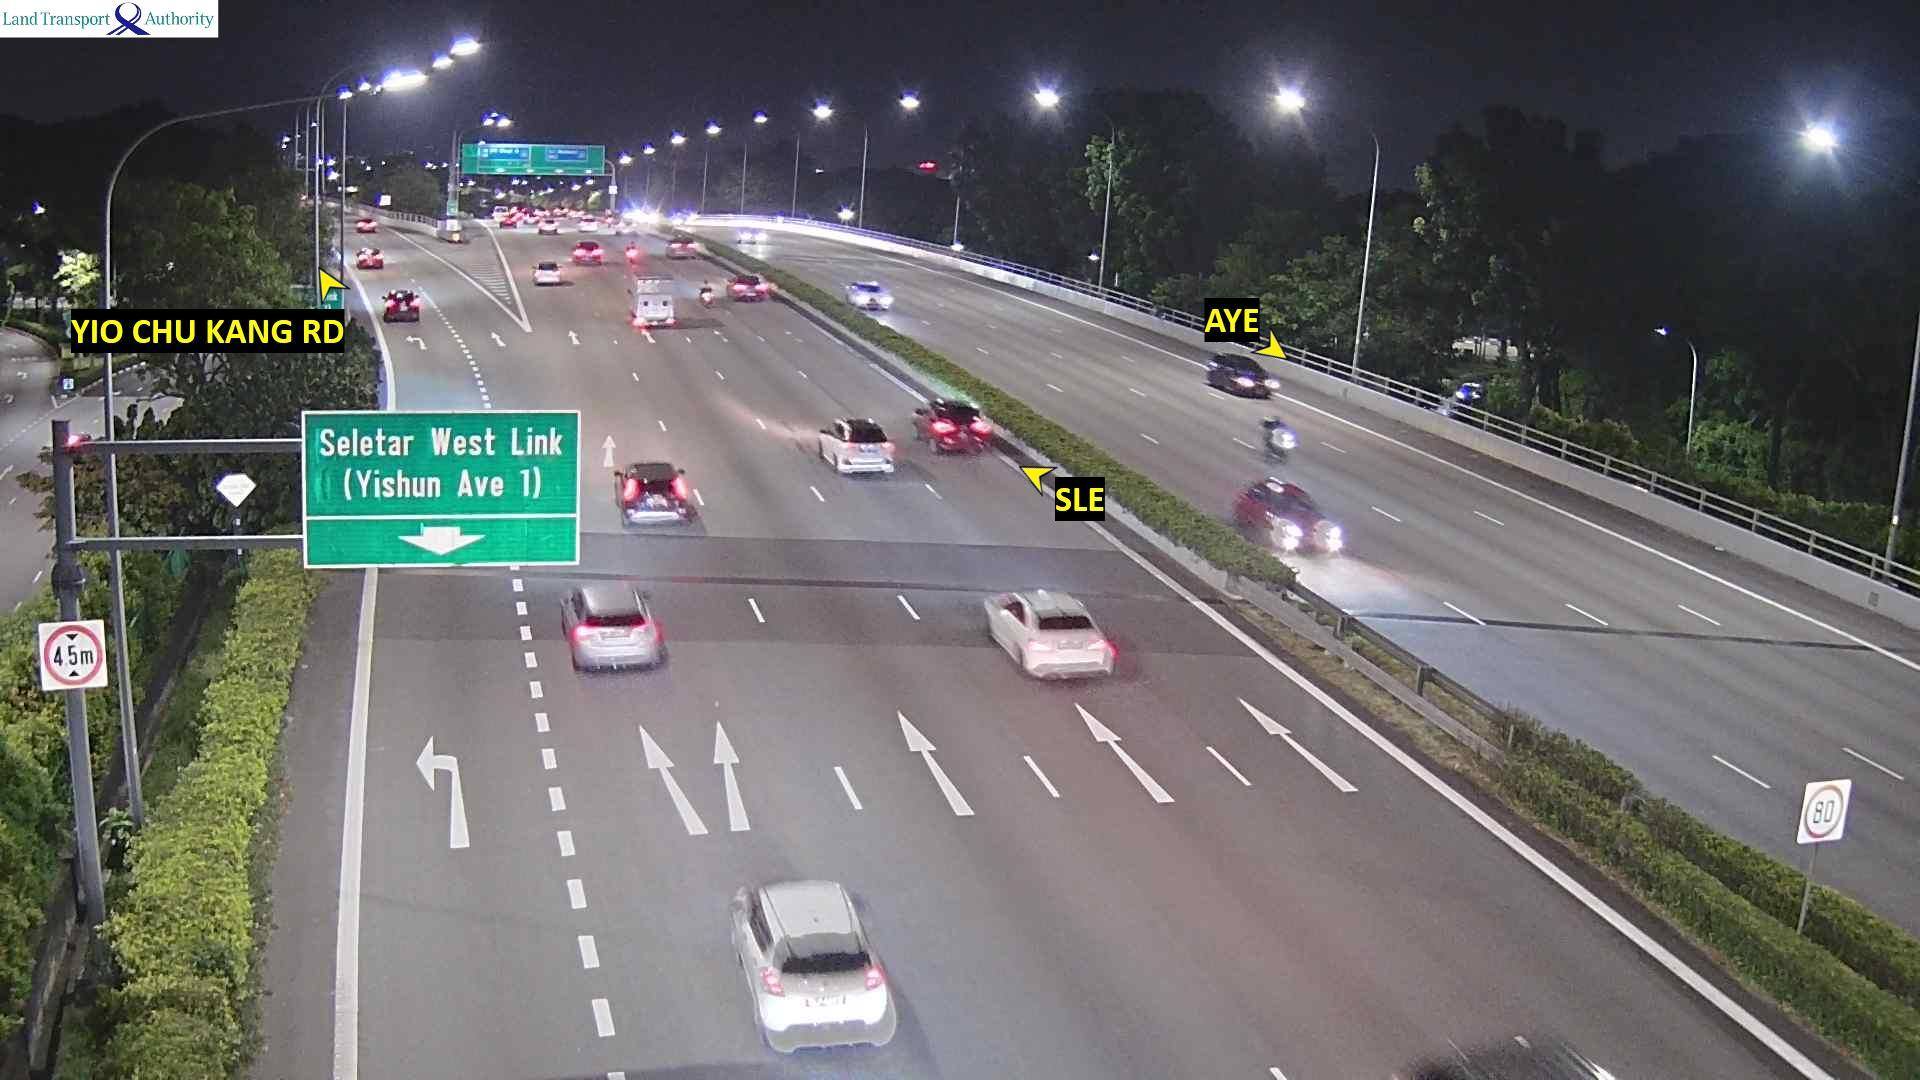incoming: (1261, 488, 1342, 553), (1225, 356, 1280, 400), (851, 282, 895, 310)
